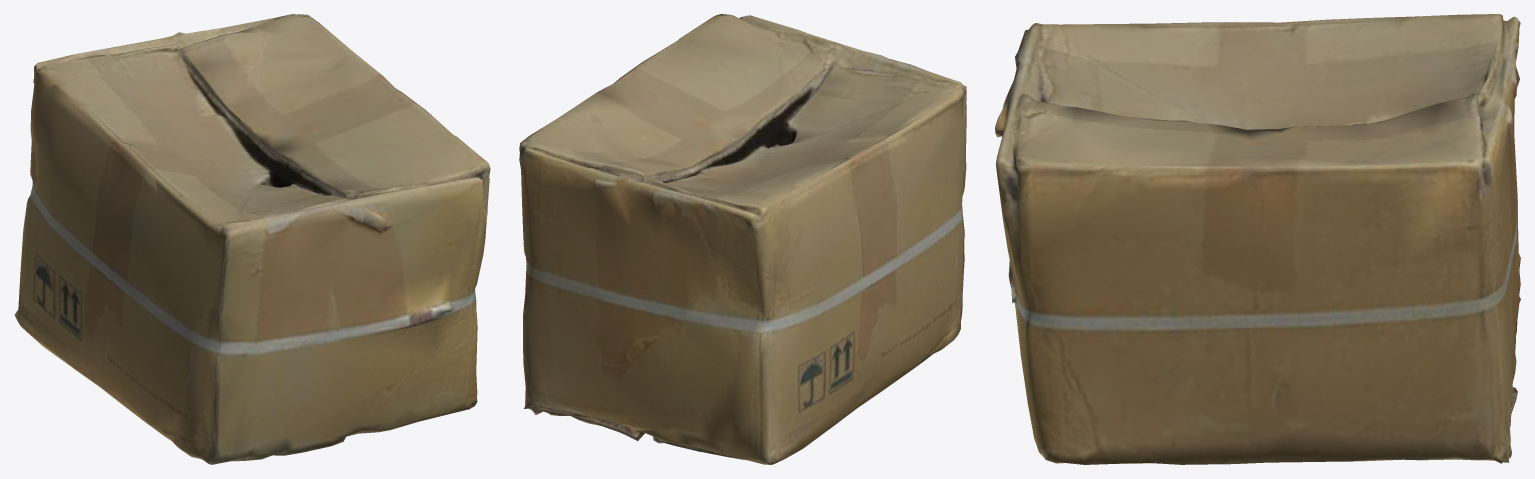
File: cardboard.glb
The picture shows the model from 3 angles, left to right: view 1: azimuth 30°, elevation 25°; view 2: azimuth 150°, elevation 25°; view 3: azimuth 270°, elevation 25°; orthographic projection. The views are drawn at different scales.
Parts seen in each view (by area): view 1: cardboard_box_01; view 2: cardboard_box_01; view 3: cardboard_box_01.
Boxes of the visible parts, x1=… form: cardboard_box_01: x1=14, y1=14, x2=490, y2=464; cardboard_box_01: x1=519, y1=14, x2=966, y2=464; cardboard_box_01: x1=995, y1=14, x2=1520, y2=464.
Size of the model in its own units: 0.3868 by 0.3418 by 0.5159.
Materials: 1 (1 with a texture image).
